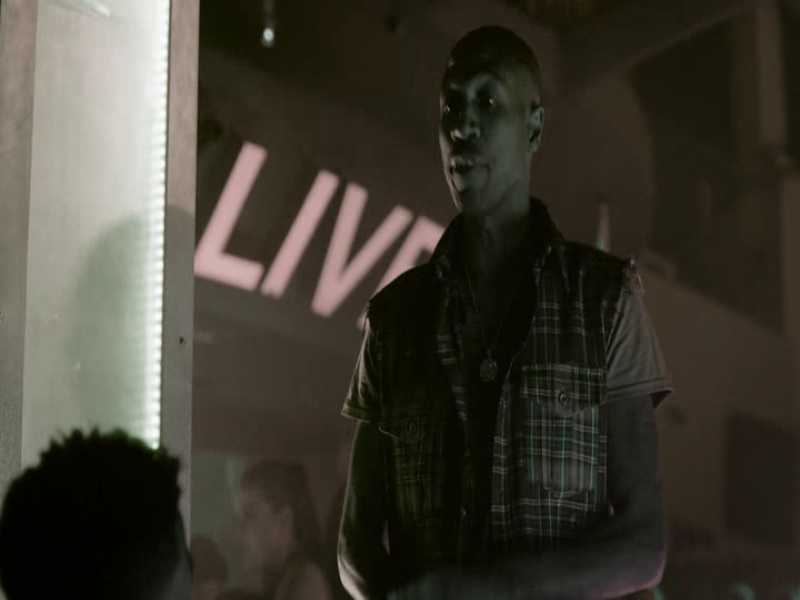TsisyArotava: (421, 23, 554, 238)
